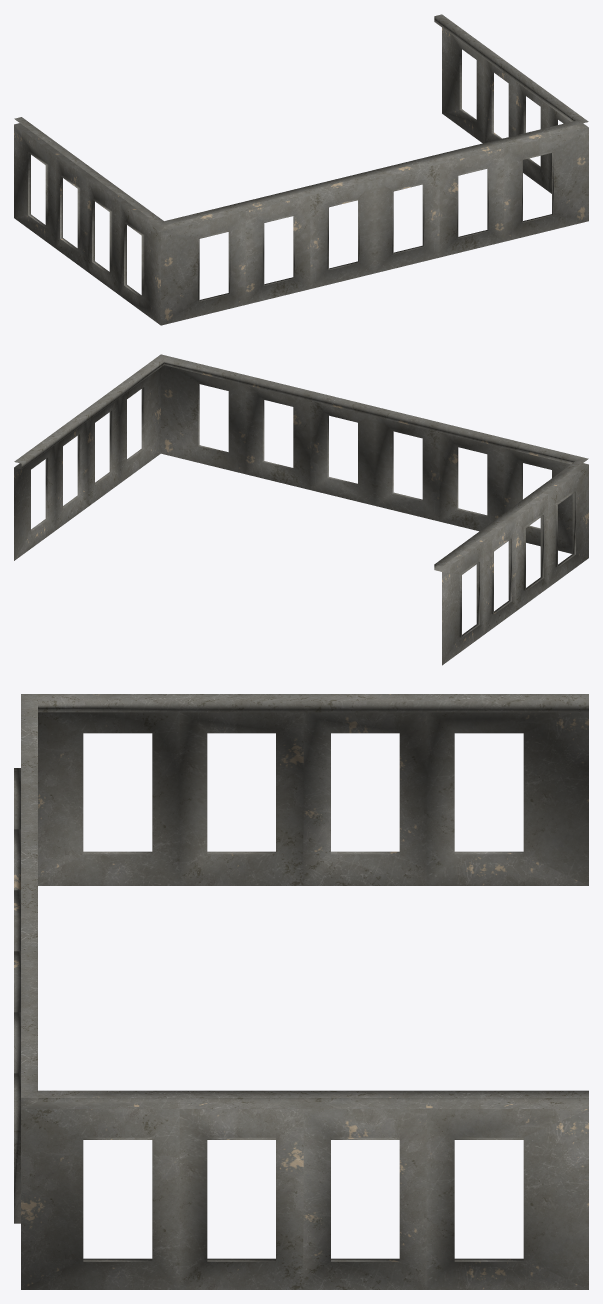
The model's file is FrontWall_Sophia.fbx.
3 views of the same model, one above another, from view 1: azimuth 30°, elevation 25°; view 2: azimuth 150°, elevation 25°; view 3: azimuth 270°, elevation 25° (orthographic). The views are drawn at different scales.
Visible parts, largest first — view 1: TempleHall_FrontWalls_Sophia_LP; view 2: TempleHall_FrontWalls_Sophia_LP; view 3: TempleHall_FrontWalls_Sophia_LP.
Part boxes in pixels (x1,y1,x2,y2): TempleHall_FrontWalls_Sophia_LP: (14, 14, 588, 325); TempleHall_FrontWalls_Sophia_LP: (14, 354, 588, 665); TempleHall_FrontWalls_Sophia_LP: (14, 694, 588, 1289).
Size of the model in its own units: 2820 by 616 by 1672.
